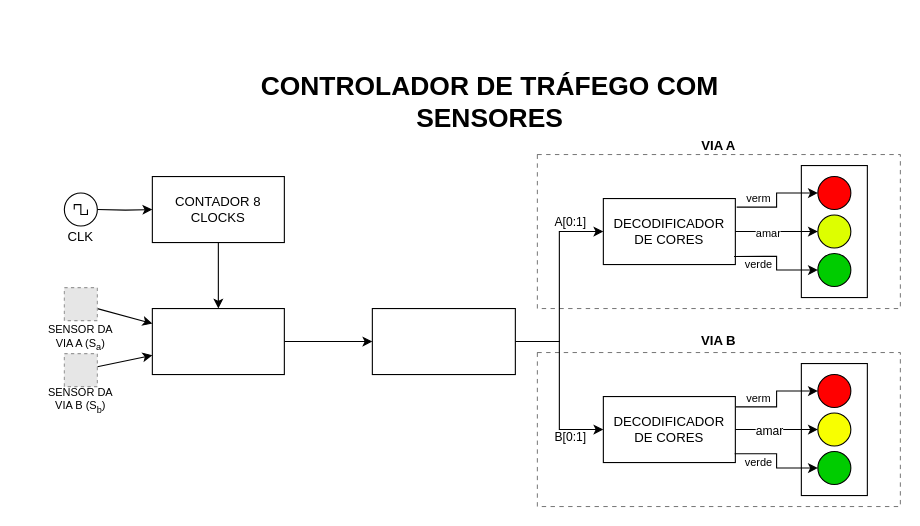
This 920x526 diagram has some shape labels left out. Grey dashed boxes stand in for pictures. The shapes that lost their labels are listed below. From the top down, each one's centre as x and y in pixels, then its label:
At point 217,341: "MAQUINA DE 4 ESTADOS".
At point 443,341: "DECODIFICADOR DE ESTADOS (2X4)".
